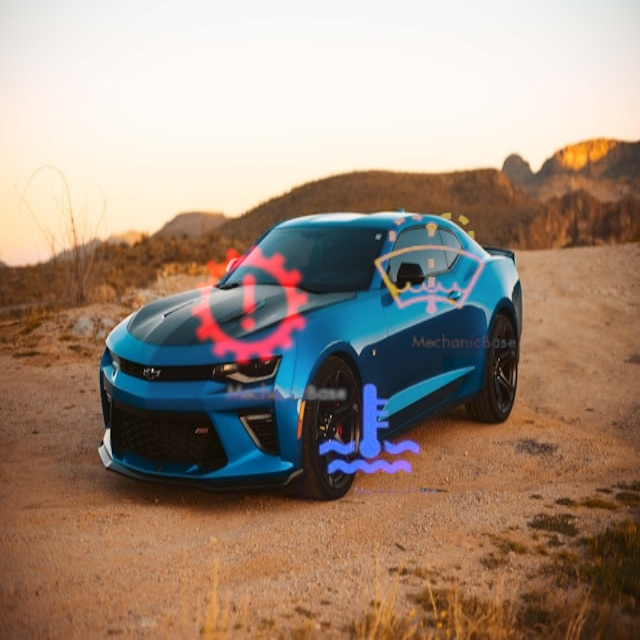symbol: (145, 201, 354, 410), (160, 0, 369, 209), (340, 174, 523, 357), (296, 356, 443, 503)
